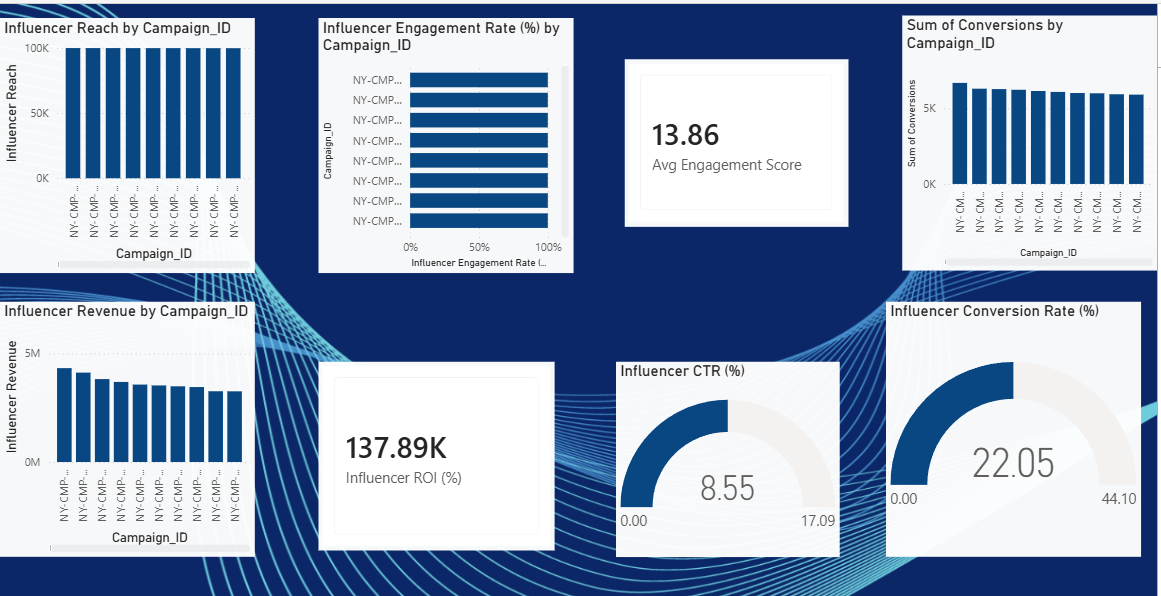

The page's visual inventory and layout, read from the dashboard file:
{"tool":"powerbi","page":{"name":"influencer analytics dashboard","canvas":[1280,720],"ordinal":1},"visuals":[{"type":"clusteredColumnChart","fields":{"Y":["nykaa_campaign_data.Influencer Reach"],"Category":["nykaa_campaign_data.Campaign_ID"]},"box":[9.6,60.4,279.9,279.9],"z":0},{"type":"hundredPercentStackedBarChart","fields":{"Category":["nykaa_campaign_data.Campaign_ID"],"Y":["nykaa_campaign_data.Influencer Engagement Rate (%)"]},"box":[359.5,60.4,279.9,279.9],"z":1000},{"type":"cardVisual","fields":{"Data":["nykaa_campaign_data.Avg Engagement Score"]},"box":[695.7,105.7,245.6,183.9],"z":2000},{"type":"columnChart","fields":{"Y":["Sum(nykaa_campaign_data.Conversions)"],"Category":["nykaa_campaign_data.Campaign_ID"]},"box":[1000.3,57.6,279.9,279.9],"z":3000},{"type":"clusteredColumnChart","fields":{"Y":["nykaa_campaign_data.Influencer Revenue"],"Category":["nykaa_campaign_data.Campaign_ID"]},"box":[9.6,371.9,279.9,279.9],"z":4000},{"type":"cardVisual","fields":{"Data":["nykaa_campaign_data.Influencer ROI (%)"]},"box":[359.5,437.7,259.3,207.2],"z":5000},{"type":"gauge","fields":{"Y":["nykaa_campaign_data.Influencer CTR (%)"]},"box":[686.1,437.7,245.6,214.1],"z":6000},{"type":"gauge","fields":{"Y":["nykaa_campaign_data.Influencer Conversion Rate (%)"]},"box":[983,372,280,280],"z":7000}]}

Visuals, with their boxes on the page's 1280x720 design canvas (x1, y1, x2, y2). These are canvas units, not pixel positions in the 1161x596 screenshot, which may show the page scaled, cropped or inside an application window:
clusteredColumnChart - nykaa_campaign_data.Influencer Reach x nykaa_campaign_data.Campaign_ID: select_region(10, 60, 290, 340)
hundredPercentStackedBarChart - nykaa_campaign_data.Campaign_ID x nykaa_campaign_data.Influencer Engagement Rate (%): select_region(360, 60, 639, 340)
cardVisual - nykaa_campaign_data.Avg Engagement Score: select_region(696, 106, 941, 290)
columnChart - Sum(nykaa_campaign_data.Conversions) x nykaa_campaign_data.Campaign_ID: select_region(1000, 58, 1280, 338)
clusteredColumnChart - nykaa_campaign_data.Influencer Revenue x nykaa_campaign_data.Campaign_ID: select_region(10, 372, 290, 652)
cardVisual - nykaa_campaign_data.Influencer ROI (%): select_region(360, 438, 619, 645)
gauge - nykaa_campaign_data.Influencer CTR (%): select_region(686, 438, 932, 652)
gauge - nykaa_campaign_data.Influencer Conversion Rate (%): select_region(983, 372, 1263, 652)
